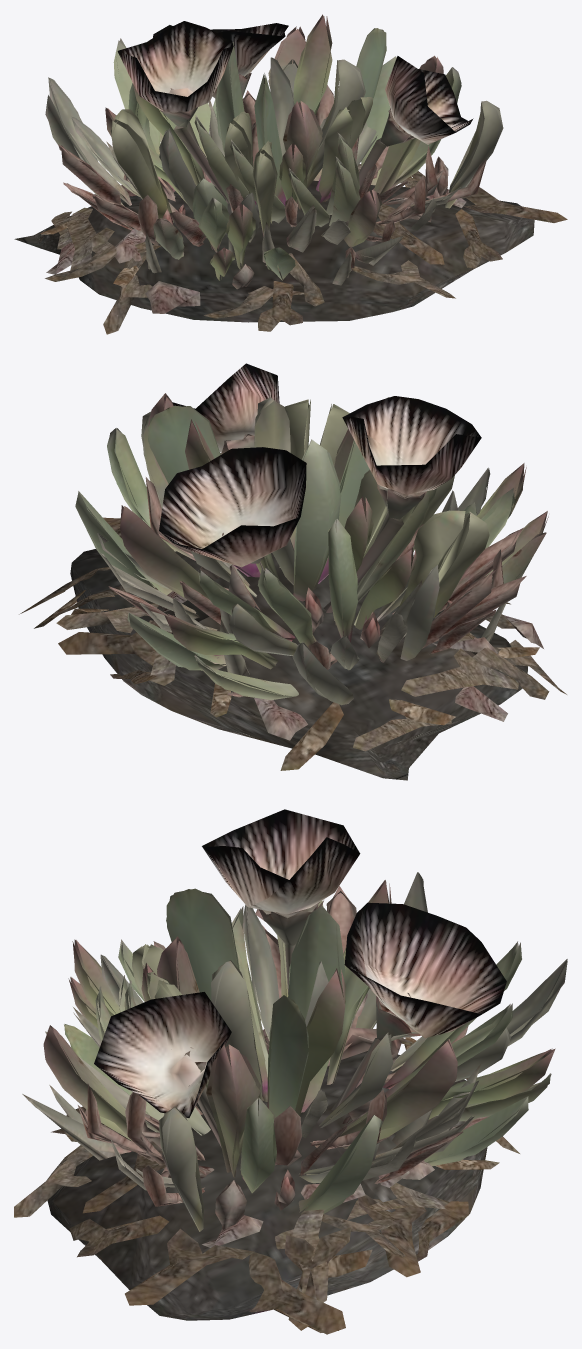
Rendered from cheiridopsis_succulent_d.gltf.lod.glb.
3 views of the same model, one above another, from view 1: azimuth 30°, elevation 25°; view 2: azimuth 150°, elevation 25°; view 3: azimuth 270°, elevation 25° (orthographic). The views are drawn at different scales.
Parts seen in each view (by area): view 1: cheiridopsis_succulent_g_LOD0; view 2: cheiridopsis_succulent_g_LOD0; view 3: cheiridopsis_succulent_g_LOD0.
Part boxes in pixels (<box>): cheiridopsis_succulent_g_LOD0: <box>14,14,567,334</box>; cheiridopsis_succulent_g_LOD0: <box>19,363,566,780</box>; cheiridopsis_succulent_g_LOD0: <box>14,809,567,1334</box>.
Bounding box in the file's own units: 0.5123 × 0.2698 × 0.4223.
Materials: 2 (2 with a texture image).
